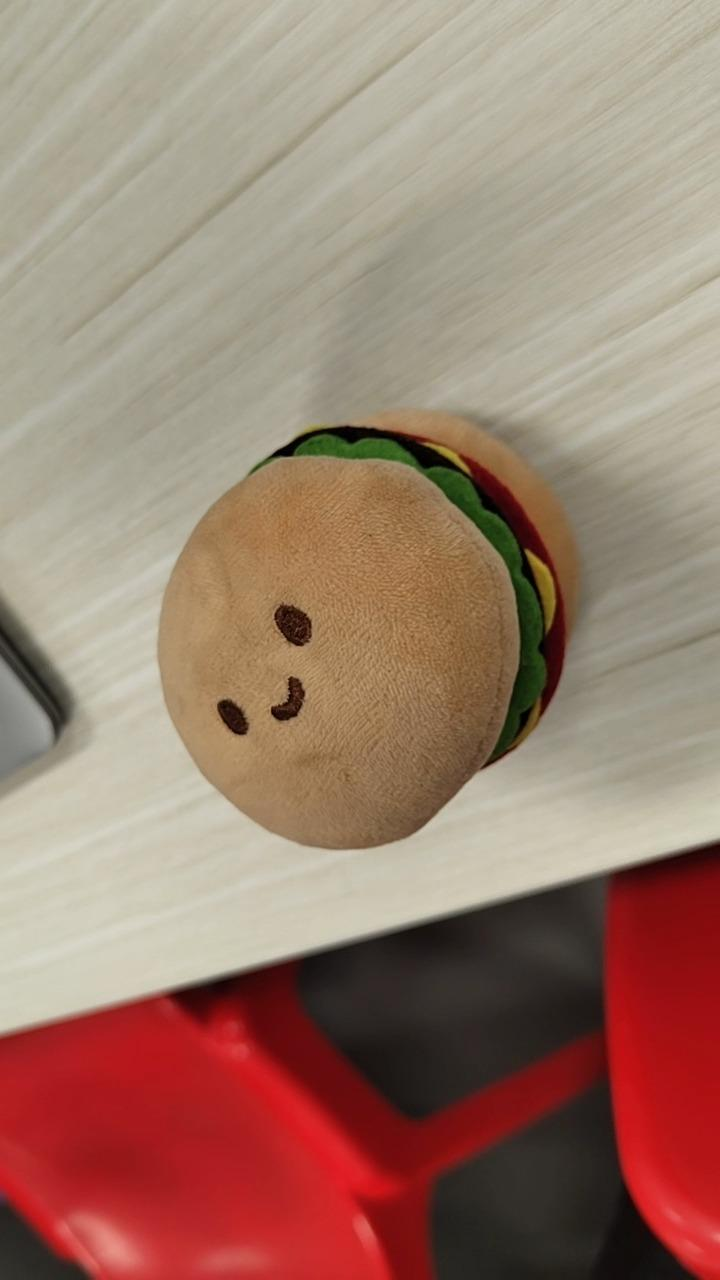hamburger: (155, 405, 581, 851)
